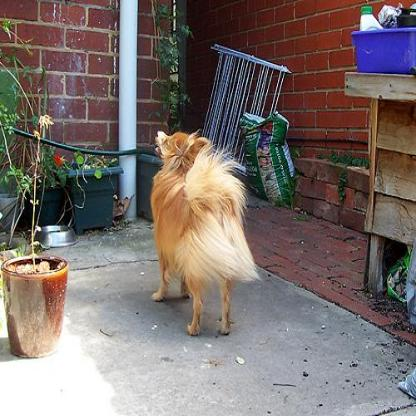Pomeranian: (140, 119, 264, 341)
